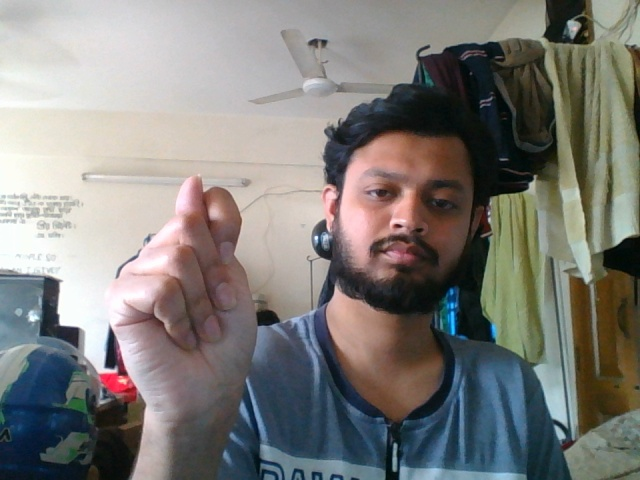ta: (101, 170, 268, 466)
